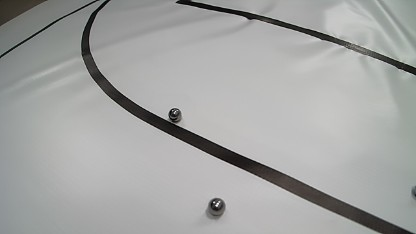ironball: (208, 197, 225, 216), (168, 108, 182, 122), (412, 186, 416, 200)
